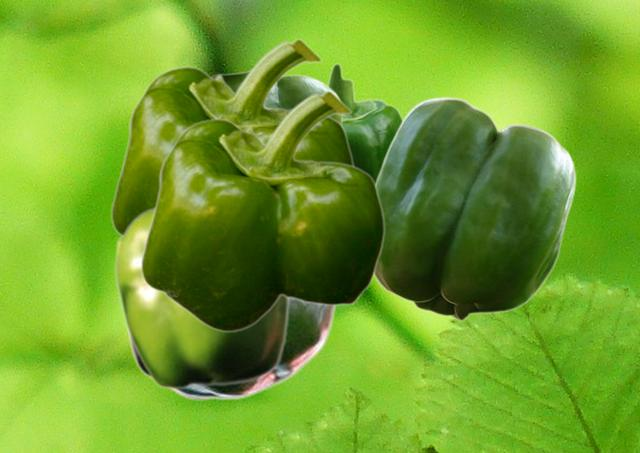bell_pepper: (140, 90, 384, 332), (110, 38, 354, 236), (374, 96, 575, 320), (114, 204, 290, 389), (125, 299, 338, 399), (327, 62, 402, 178), (211, 70, 343, 124)
